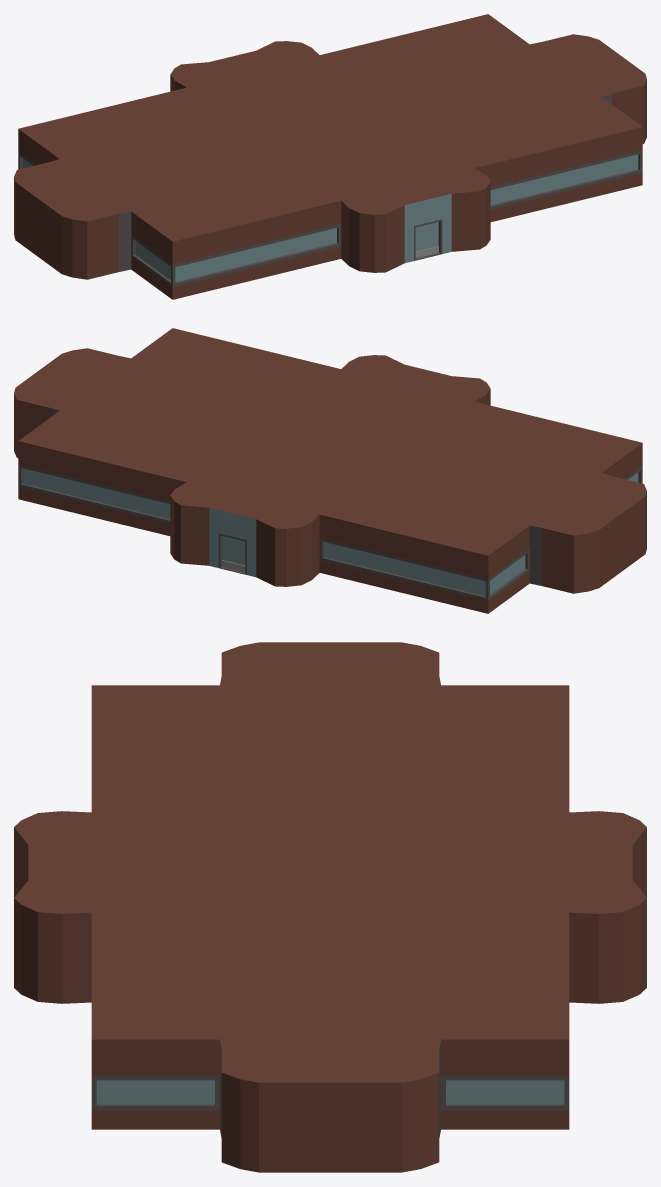
Rendered from Building_Long_Foundation.fbx.
3 renders of one model, top to bottom at view 1: azimuth 30°, elevation 25°; view 2: azimuth 150°, elevation 25°; view 3: azimuth 270°, elevation 25°, orthographic. The views are drawn at different scales.
Visible parts, largest first — view 1: Long_Foundation; view 2: Long_Foundation; view 3: Long_Foundation.
Boxes of the visible parts, box(x1,y1,x2,y2) form: Long_Foundation: box(14, 14, 646, 299); Long_Foundation: box(14, 328, 646, 613); Long_Foundation: box(14, 642, 646, 1172).
Size of the model in its own units: 5253 by 500 by 3192.
